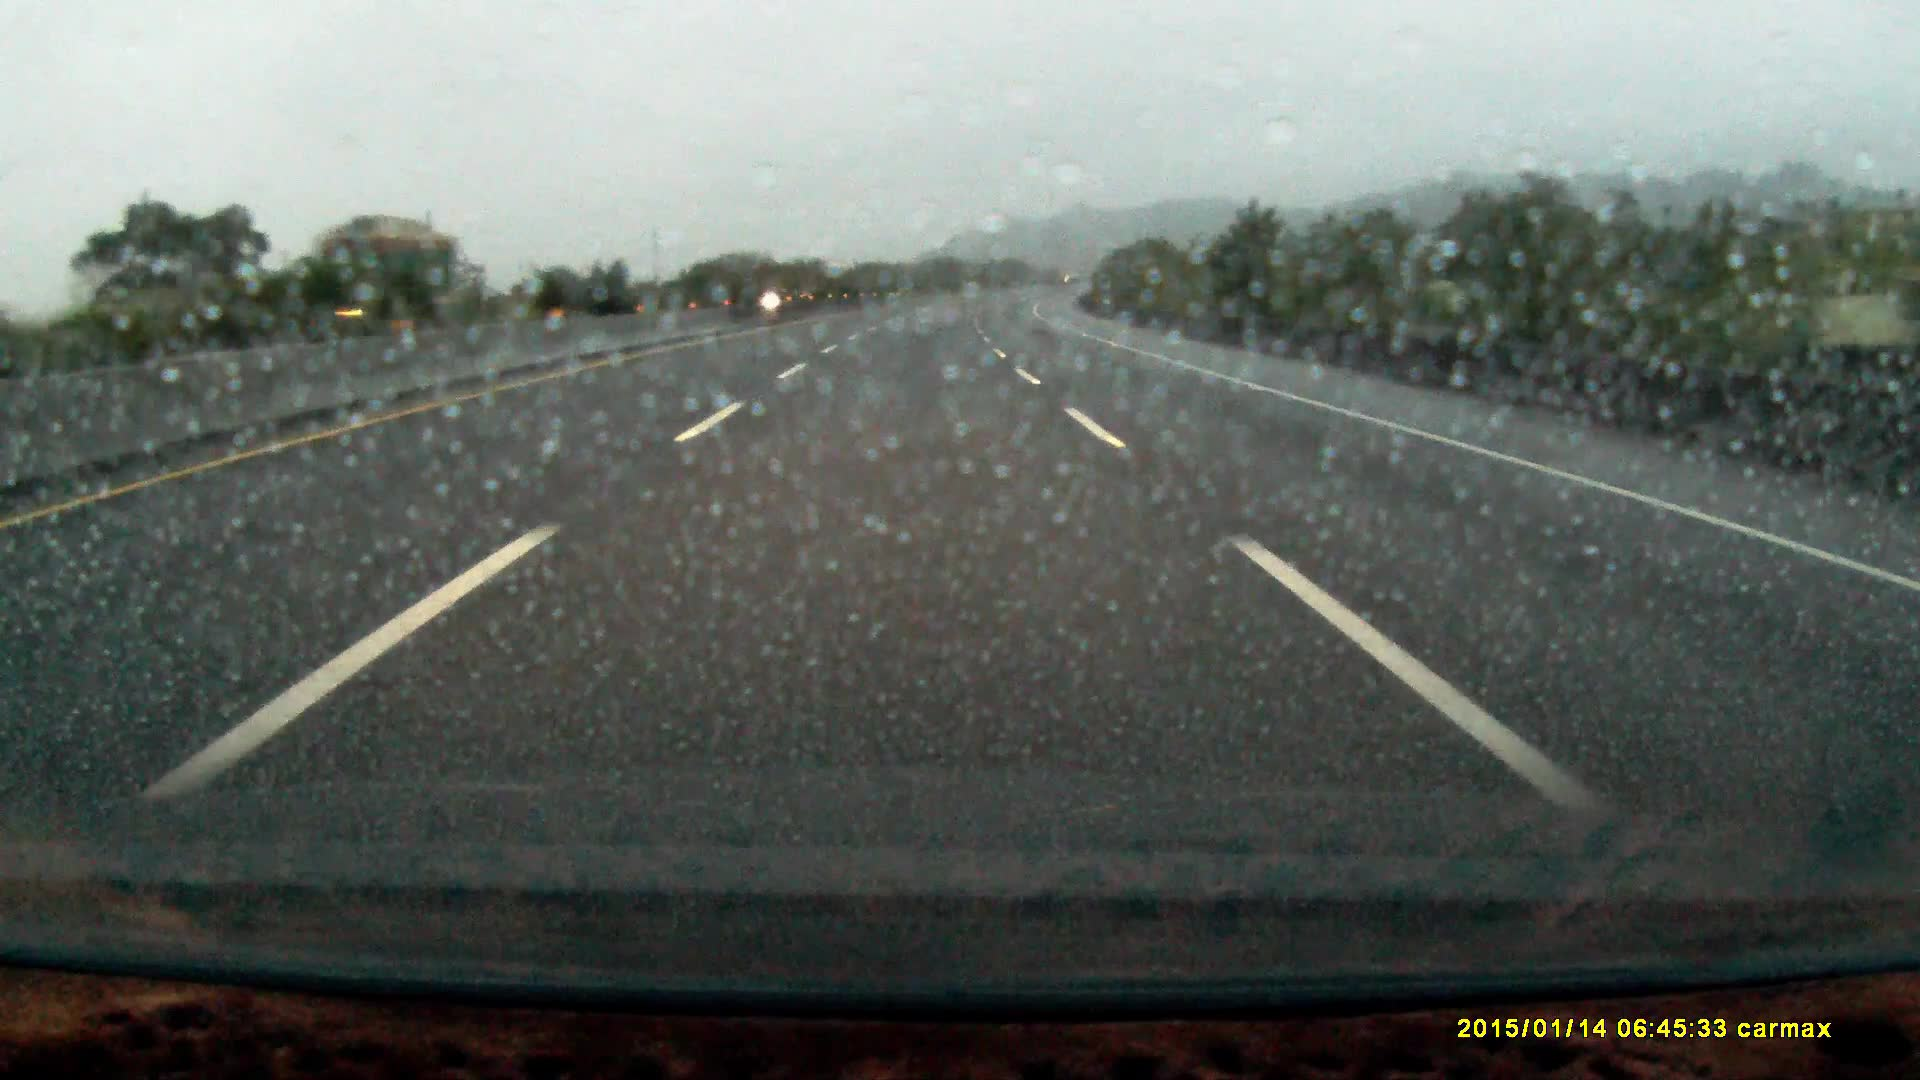vehicle: (297, 214, 456, 335)
